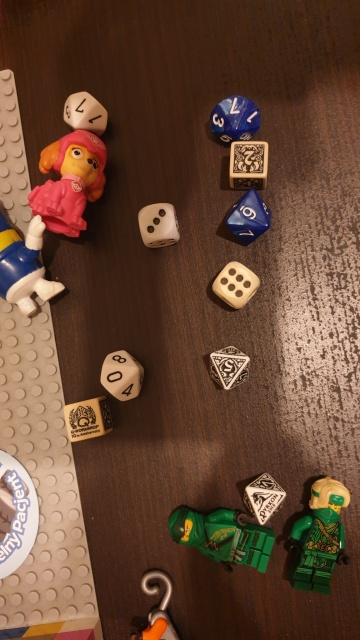d10-10: (98, 349, 146, 404)
d10-6: (224, 190, 275, 243)
d10-7: (206, 91, 266, 149)
d6-3: (135, 202, 181, 249)
d6-6: (208, 259, 262, 311)
d6p-2: (222, 139, 272, 189)
d6p-6: (59, 398, 115, 449)
d8p-1: (238, 468, 288, 529)
d8p-5: (202, 343, 254, 395)
